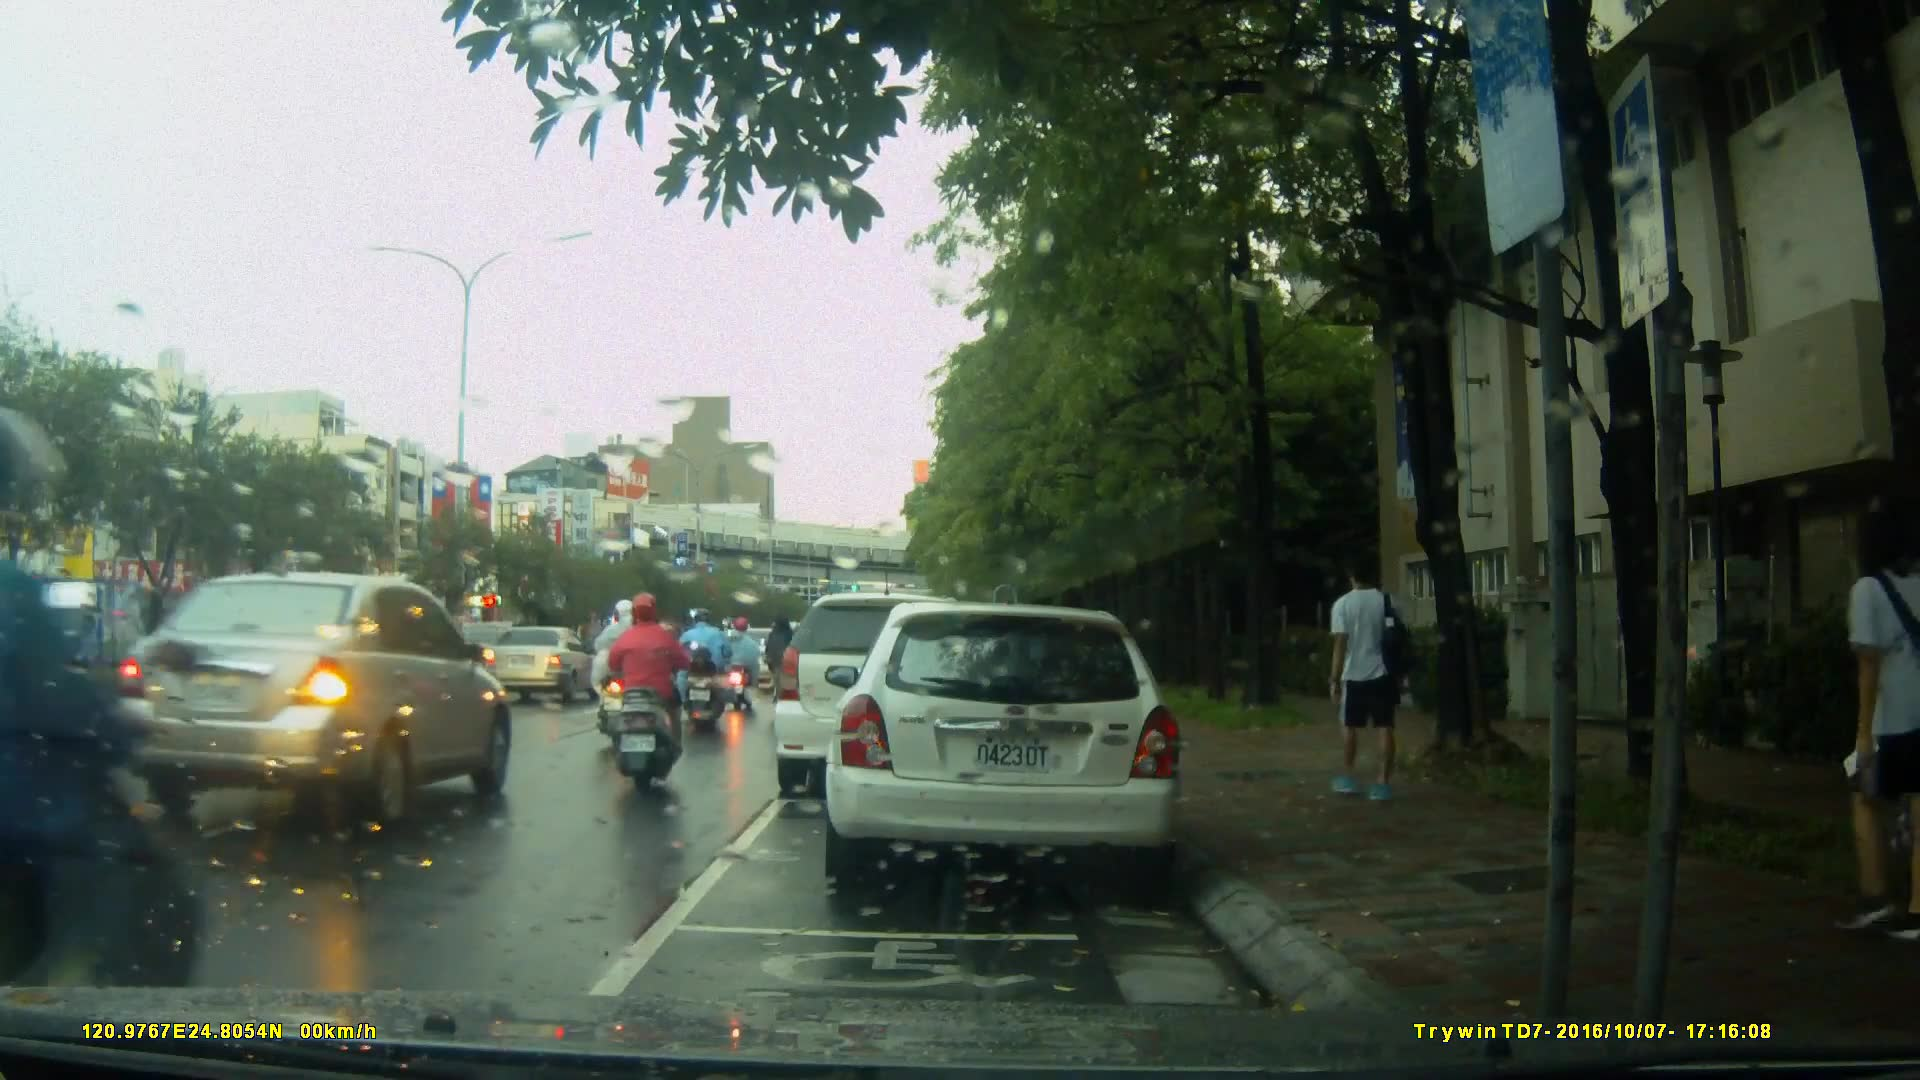pedestrian: (1818, 502, 1920, 940), (1323, 552, 1418, 817)
rider: (1, 434, 230, 1048), (595, 594, 682, 801), (599, 602, 653, 757), (677, 608, 736, 736), (768, 610, 803, 726), (725, 613, 766, 713)
vehicle: (111, 571, 515, 836), (822, 604, 1188, 882), (774, 595, 995, 802), (481, 623, 603, 708)
